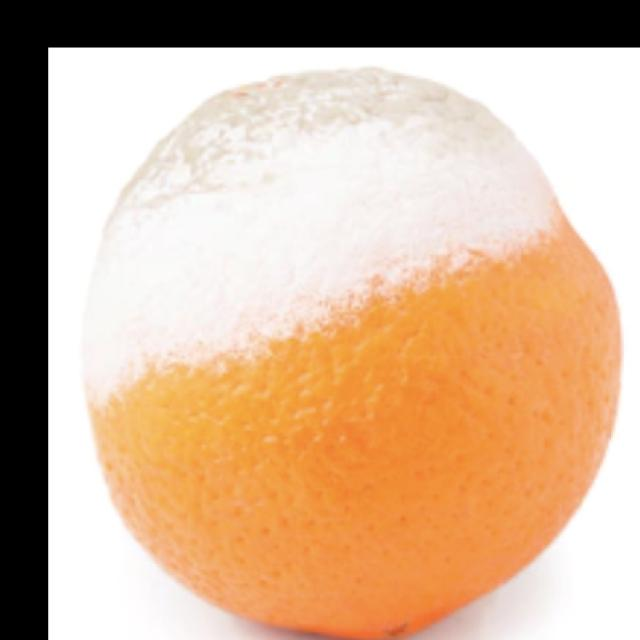sedikit_busuk: (79, 63, 628, 640)
